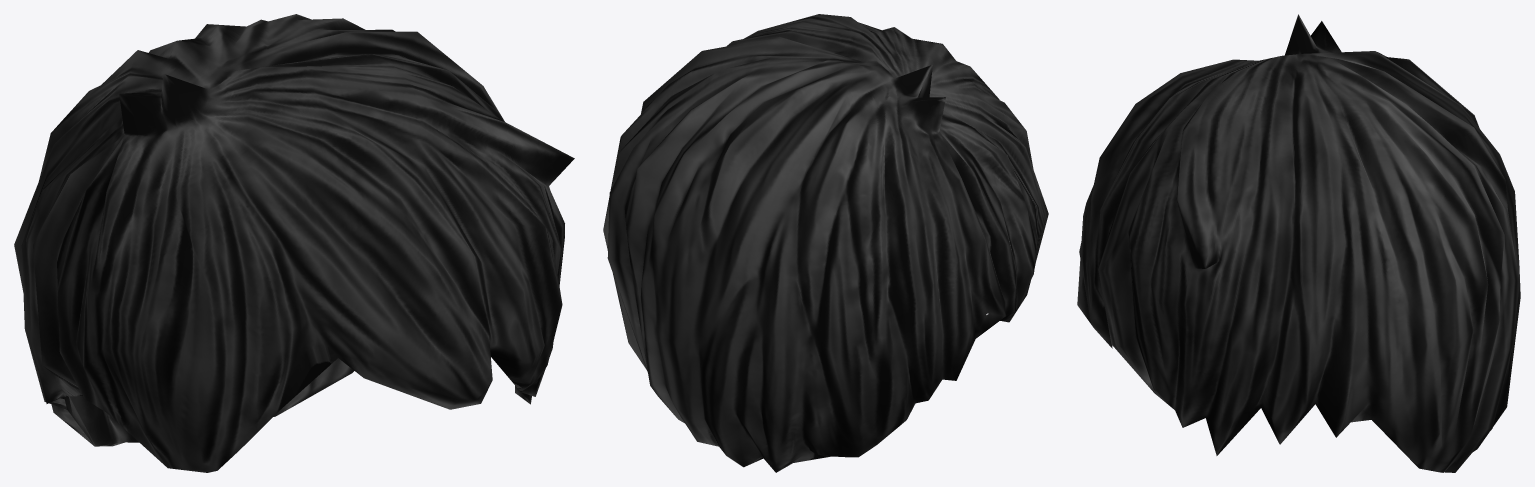
The model's file is AF_M_hair_08.fbx.
The picture shows the model from 3 angles, left to right: view 1: azimuth 30°, elevation 25°; view 2: azimuth 150°, elevation 25°; view 3: azimuth 270°, elevation 25°; orthographic projection. The views are drawn at different scales.
Visible parts, largest first — view 1: AF_M_hair_09; view 2: AF_M_hair_09; view 3: AF_M_hair_09.
Boxes of the visible parts, x1,y1,x2,y2 form: AF_M_hair_09: (14,14,574,472); AF_M_hair_09: (603,14,1048,472); AF_M_hair_09: (1077,14,1520,472).
Size of the model in its own units: 773 by 725 by 743.
